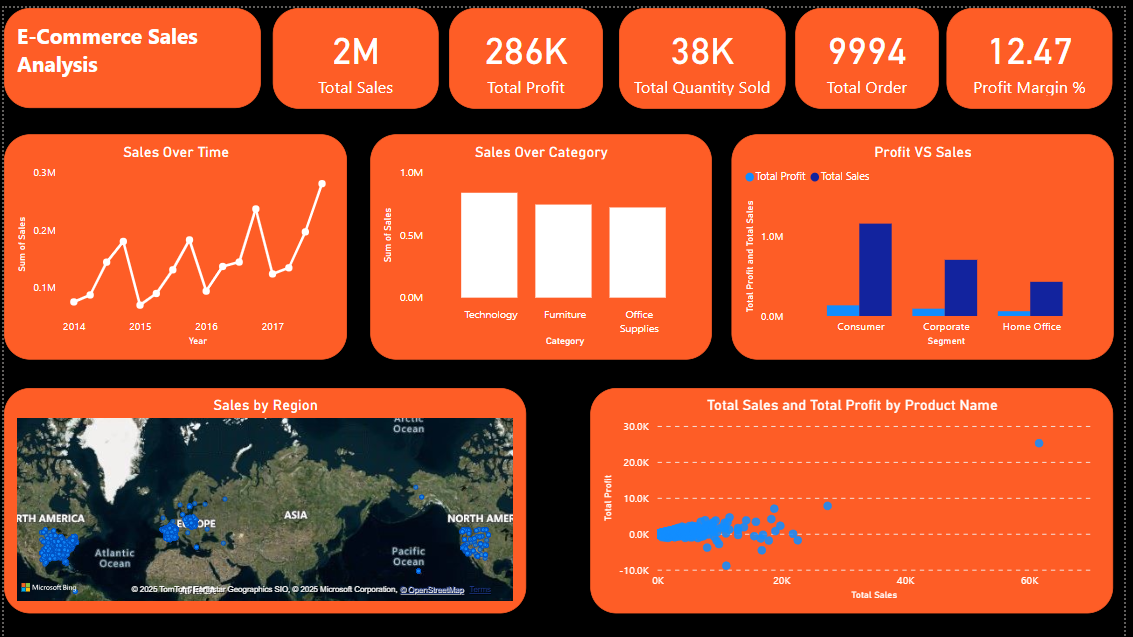

The page's visual inventory and layout, read from the dashboard file:
{"tool":"powerbi","page":{"name":"Page 1","canvas":[1280,720],"ordinal":0},"visuals":[{"type":"card","fields":{"Values":["Sample - Superstore.Total Sales"]},"box":[306.9,0,189.5,114.9],"z":0},{"type":"card","fields":{"Values":["Sample - Superstore.Total Profit"]},"box":[508.7,0,176.1,114.9],"z":1000},{"type":"card","fields":{"Values":["Sample - Superstore.Total Quantity Sold"]},"box":[703.1,0,190.8,114.9],"z":2000},{"type":"card","fields":{"Values":["Sample - Superstore.Total Order"]},"box":[904.9,0,163.9,114.9],"z":3000},{"type":"card","fields":{"Values":["Sample - Superstore.Profit Margin %"]},"box":[1077.3,0,189.5,114.9],"z":4000},{"type":"textbox","box":[0,0,293.3,114.4],"z":5000},{"type":"lineChart","title":"Sales Over Time","fields":{"Category":["Sample - Superstore.Order Date.Variation.Date Hierarchy.Year","Sample - Superstore.Order Date.Variation.Date Hierarchy.Quarter","Sample - Superstore.Order Date.Variation.Date Hierarchy.Month","Sample - Superstore.Order Date.Variation.Date Hierarchy.Day"],"Y":["Sum(Sample - Superstore.Sales)"]},"box":[0,144.4,392.2,257.8],"z":6000},{"type":"columnChart","title":"Sales Over Category","fields":{"Category":["Sample - Superstore.Category"],"Y":["Sum(Sample - Superstore.Sales)"]},"box":[418.9,144.4,390,257.8],"z":7000},{"type":"clusteredColumnChart","title":"Profit VS Sales","fields":{"Category":["Sample - Superstore.Segment"],"Y":["Sample - Superstore.Total Profit","Sample - Superstore.Total Sales"]},"box":[831.1,144.4,436.7,257.8],"z":7001},{"type":"map","title":"Sales by Region","fields":{"Category":["Sample - Superstore.Sales"]},"box":[0,434.4,596.7,257.8],"z":7002},{"type":"scatterChart","fields":{"X":["Sample - Superstore.Total Sales"],"Y":["Sample - Superstore.Total Profit"],"Category":["Sample - Superstore.Product Name"]},"box":[670,434.4,597.8,257.8],"z":7003}]}

Visuals, with their boxes in screenshot pixels (x1, y1, x2, y2), scaled from the page's 1280x720 canvas onto the 1133x637 screenshot:
card - Sample - Superstore.Total Sales: rect(272, 0, 439, 102)
card - Sample - Superstore.Total Profit: rect(450, 0, 606, 102)
card - Sample - Superstore.Total Quantity Sold: rect(622, 0, 791, 102)
card - Sample - Superstore.Total Order: rect(801, 0, 946, 102)
card - Sample - Superstore.Profit Margin %: rect(954, 0, 1121, 102)
textbox: rect(0, 0, 260, 101)
"Sales Over Time" lineChart: rect(0, 128, 347, 356)
"Sales Over Category" columnChart: rect(371, 128, 716, 356)
"Profit VS Sales" clusteredColumnChart: rect(736, 128, 1122, 356)
"Sales by Region" map: rect(0, 384, 528, 612)
scatterChart - Sample - Superstore.Total Sales x Sample - Superstore.Total Profit: rect(593, 384, 1122, 612)
